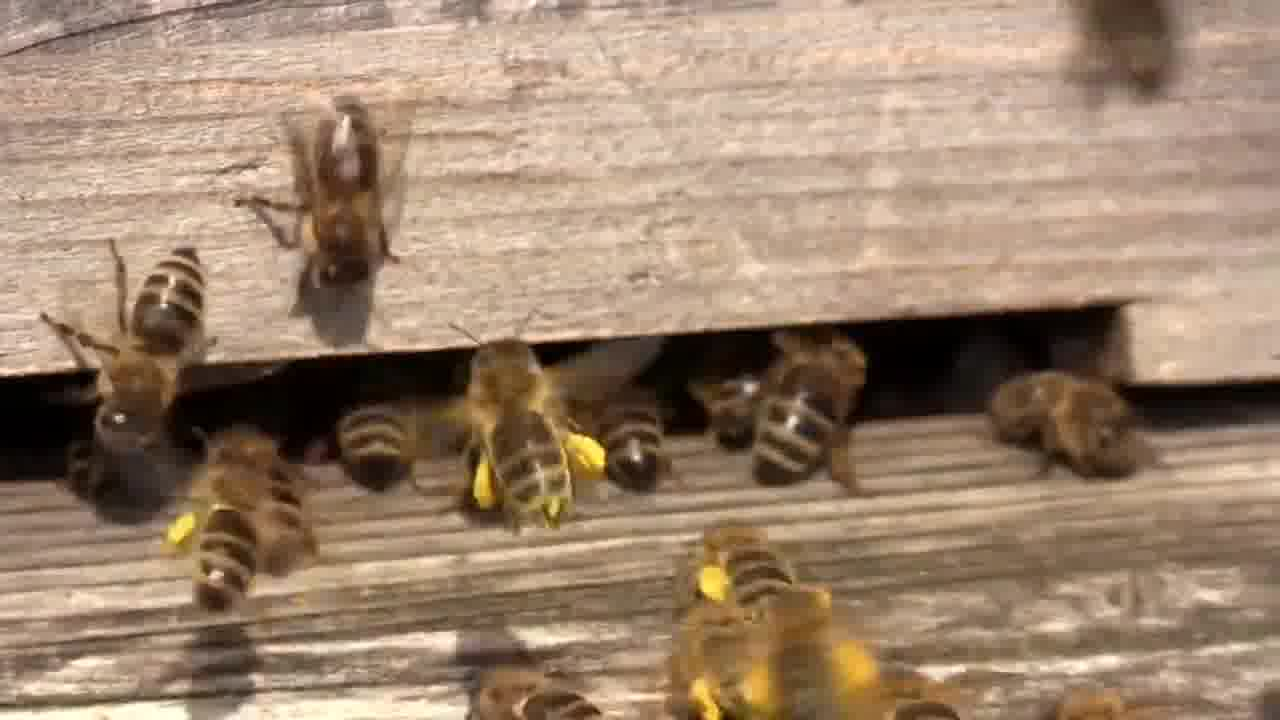pollen: (436, 334, 615, 529), (156, 464, 291, 628), (735, 601, 887, 720), (685, 518, 824, 621)
